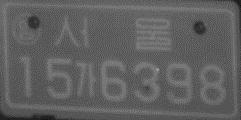1: (17, 55, 35, 98)
3: (133, 61, 161, 103)
5: (47, 57, 73, 99)
6: (100, 60, 128, 101)
8: (199, 65, 228, 106)
9: (165, 63, 192, 105)
가: (75, 62, 97, 98)
서울_D: (54, 13, 170, 53)
영: (10, 11, 45, 45)
